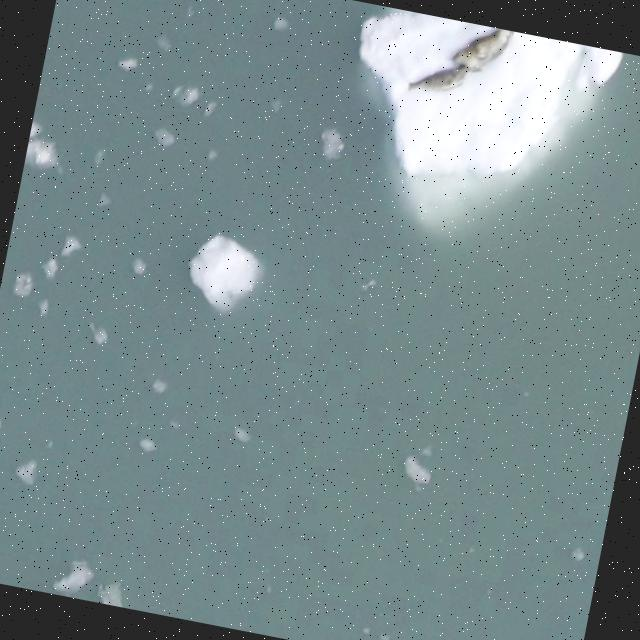seal: (452, 16, 519, 80), (408, 58, 476, 106)
